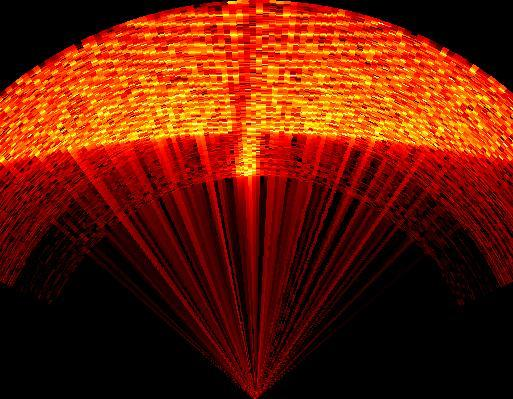pipe: (194, 0, 254, 134)
